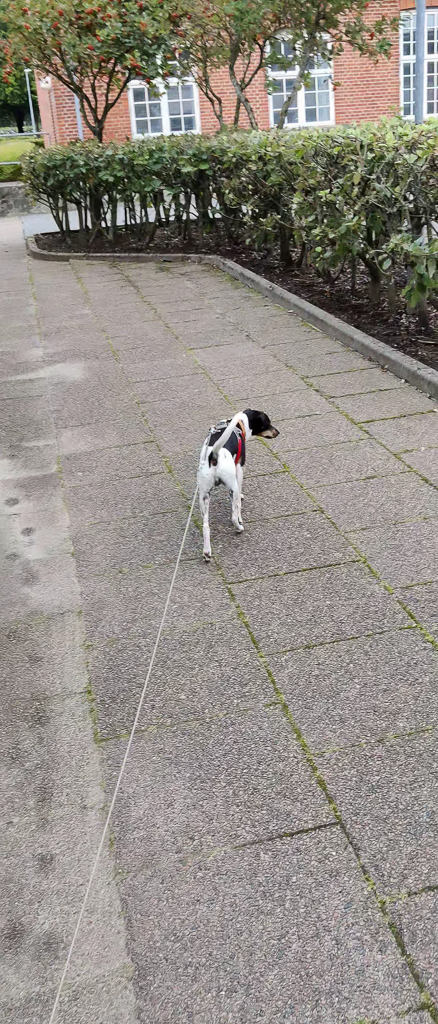Dog: (178, 398, 291, 568)
